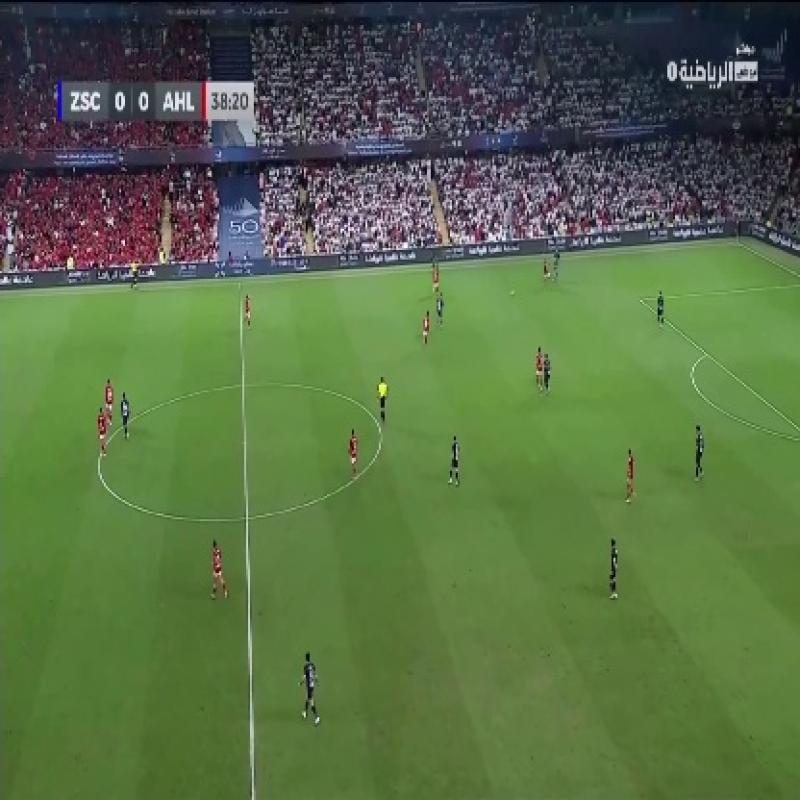1: (725, 237, 751, 250)
10: (696, 342, 712, 360)
13: (228, 275, 246, 294)
14: (231, 371, 254, 398)
15: (233, 498, 258, 530)
9: (630, 288, 646, 306)
c: (78, 443, 118, 487), (369, 418, 395, 450)
